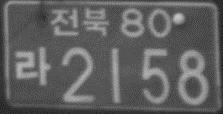0: (147, 7, 170, 39)
1: (109, 46, 122, 104)
2: (60, 46, 96, 104)
5: (140, 46, 170, 105)
8: (176, 47, 210, 107), (121, 7, 145, 37)
라: (12, 43, 51, 85)
전북_O: (49, 5, 110, 39)
